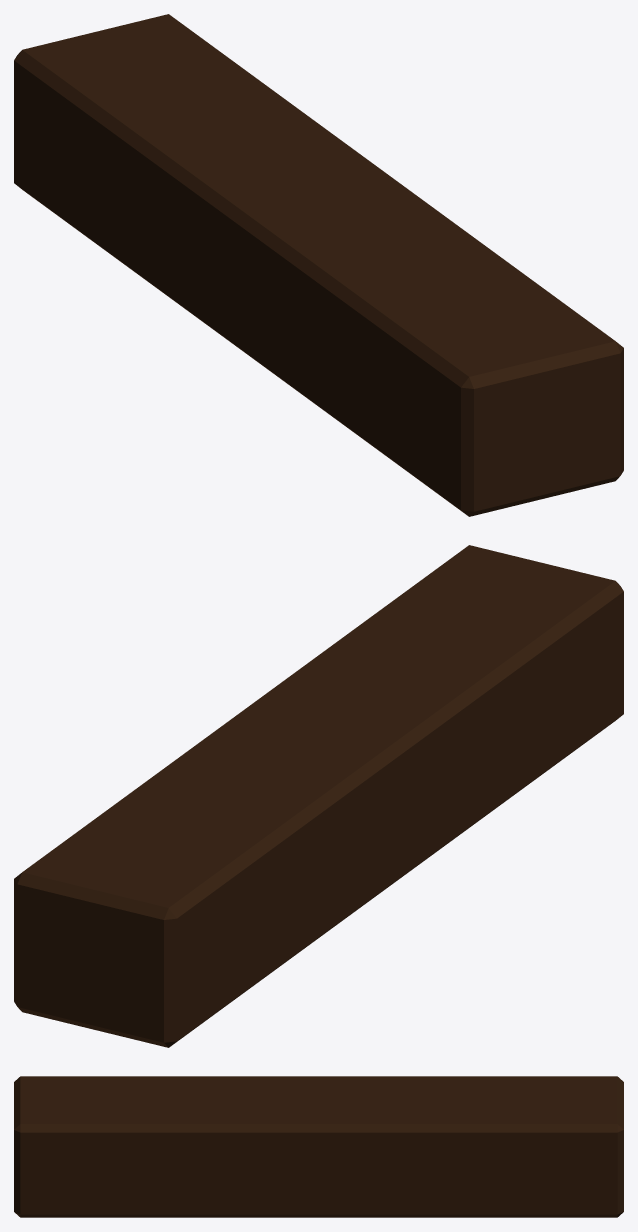
File: Beam.fbx
3 views of the same model, one above another, from view 1: azimuth 30°, elevation 25°; view 2: azimuth 150°, elevation 25°; view 3: azimuth 270°, elevation 25° (orthographic). The views are drawn at different scales.
Parts seen in each view (by area): view 1: Cube; view 2: Cube; view 3: Cube.
Boxes of the visible parts, left/top/right/bottom form: Cube: left=14, top=14, right=623, bottom=516; Cube: left=14, top=545, right=623, bottom=1047; Cube: left=14, top=1076, right=623, bottom=1217.
Bounding box in the file's own units: 119 × 97.25 × 575.
